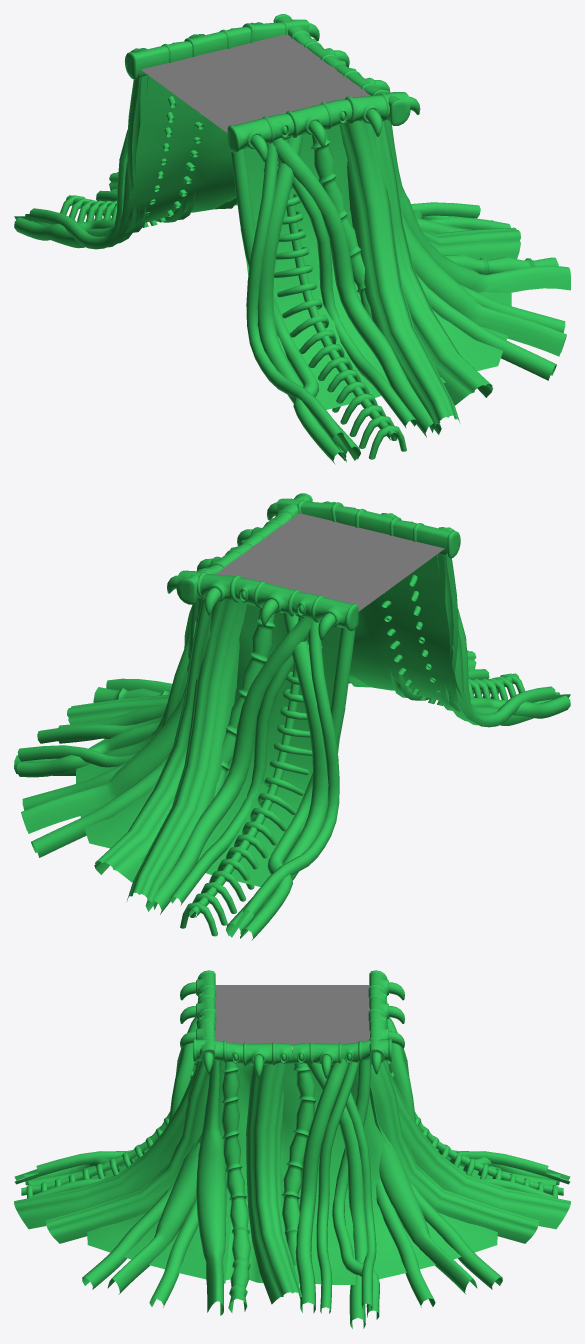
File: Track_alien_15_end.fbx
3 renders of one model, top to bottom at view 1: azimuth 30°, elevation 25°; view 2: azimuth 150°, elevation 25°; view 3: azimuth 270°, elevation 25°, orthographic. The views are drawn at different scales.
Parts seen in each view (by area): view 1: Side_Rock_015, Road_015; view 2: Side_Rock_015, Road_015; view 3: Side_Rock_015, Road_015.
Part boxes in pixels (<box>): Side_Rock_015: <box>14,14,570,464</box>; Road_015: <box>141,34,370,132</box>; Side_Rock_015: <box>14,493,570,940</box>; Road_015: <box>216,513,444,611</box>; Side_Rock_015: <box>14,970,570,1328</box>; Road_015: <box>214,985,370,1046</box>.
Size of what is drawn, in the model's own units: 4719 by 7589 by 3306.
